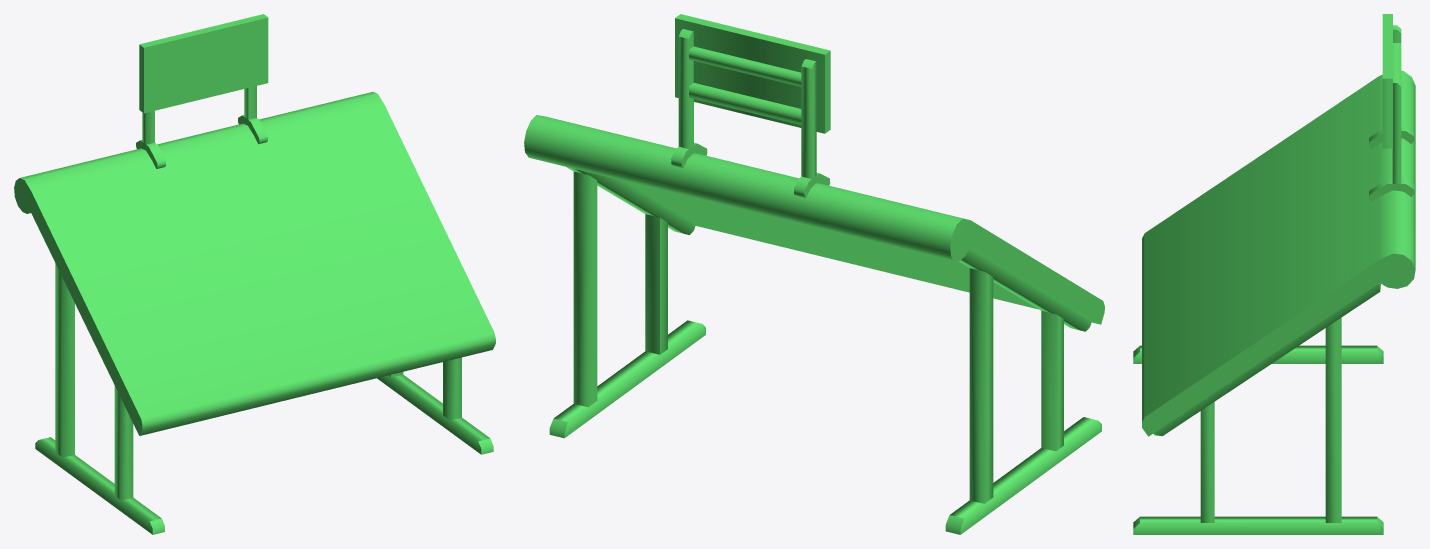
File: table.fbx
The picture shows the model from 3 angles, left to right: view 1: azimuth 30°, elevation 25°; view 2: azimuth 150°, elevation 25°; view 3: azimuth 270°, elevation 25°; orthographic projection. The views are drawn at different scales.
Parts seen in each view (by area): view 1: table; view 2: table; view 3: table.
Boxes of the visible parts, x1=… form: table: x1=14, y1=14, x2=495, y2=534; table: x1=524, y1=14, x2=1104, y2=534; table: x1=1133, y1=14, x2=1415, y2=534.
Size of the model in its own units: 192 by 194 by 124.
